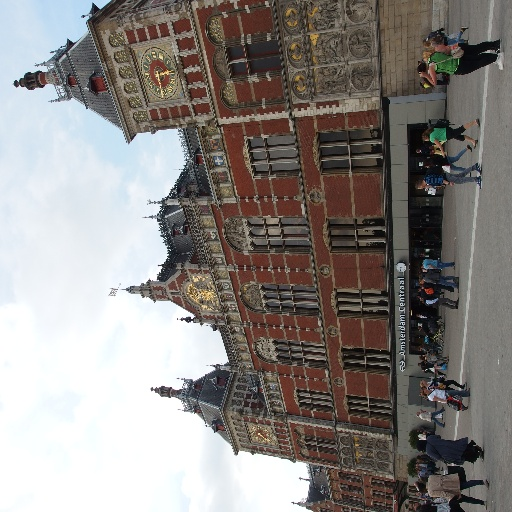hand: (418, 68, 424, 77)
